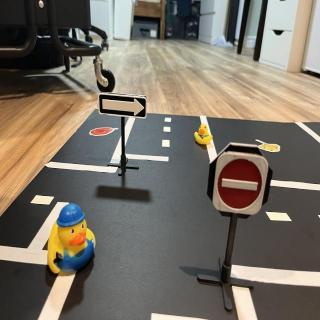duck_regular: (194, 123, 214, 147)
duck_specialty: (48, 204, 96, 278)
sign_noentry: (212, 155, 269, 216)
sign_oneway_right: (99, 95, 147, 121)
